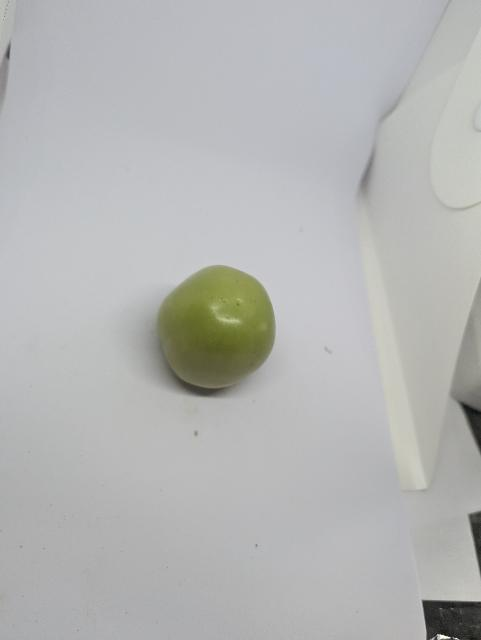green: (149, 256, 285, 396)
